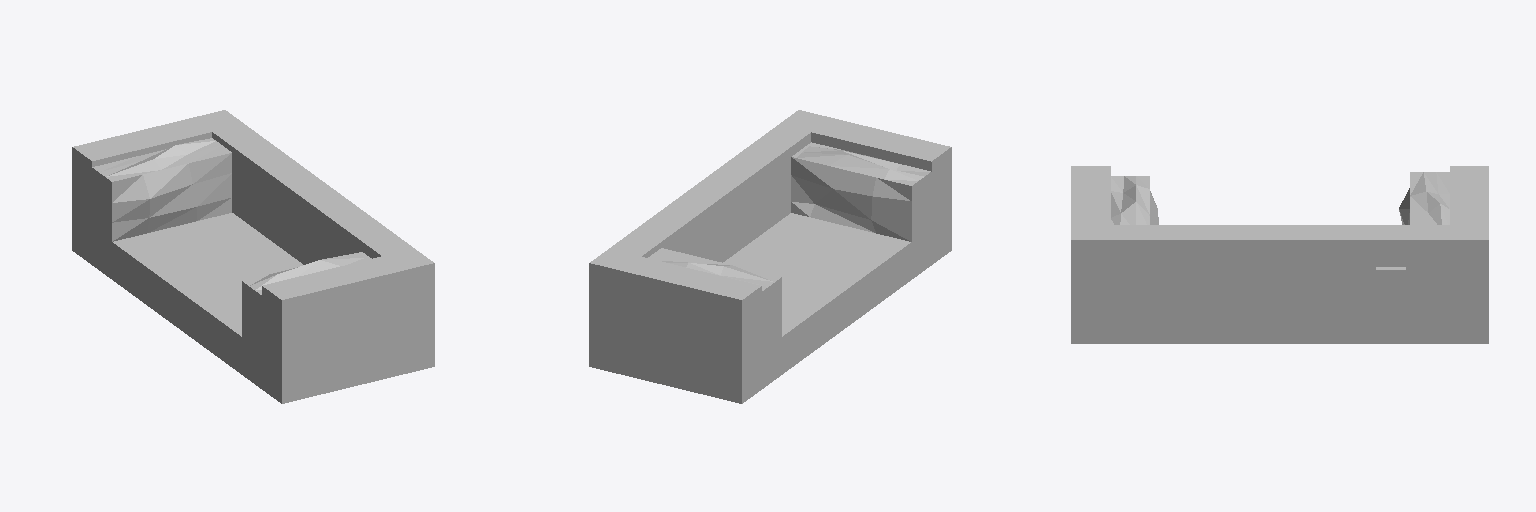
The model's file is couch.obj.
3 views of the same model, side by side, from view 1: azimuth 30°, elevation 25°; view 2: azimuth 150°, elevation 25°; view 3: azimuth 270°, elevation 25° (orthographic).
Parts seen in each view (by area): view 1: Couch_Base; view 2: Couch_Base; view 3: Couch_Base, Box001.
Boxes of the visible parts, <box> form: Couch_Base: <box>72,110,434,403</box>; Couch_Base: <box>589,110,951,403</box>; Couch_Base: <box>1071,166,1488,343</box>; Box001: <box>1376,267,1405,318</box>.
Size of the model in its own units: 43.84 by 27.77 by 101.